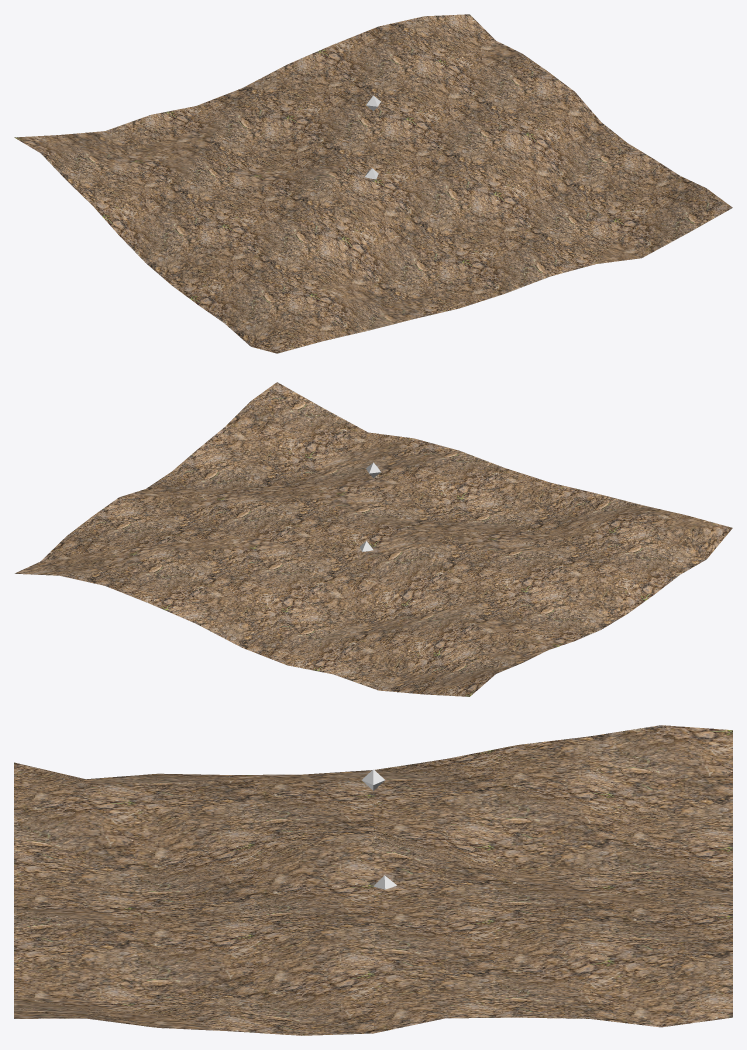
The model's file is field.fbx.
3 renders of one model, top to bottom at view 1: azimuth 30°, elevation 25°; view 2: azimuth 150°, elevation 25°; view 3: azimuth 270°, elevation 25°, orthographic. The views are drawn at different scales.
Visible parts, largest first — view 1: Plane001; view 2: Plane001; view 3: Plane001.
Part boxes in pixels (x1,y1,x2,y2): Plane001: [14, 14, 732, 353]; Plane001: [15, 382, 732, 696]; Plane001: [14, 725, 732, 1035].
Bounding box in the file's own units: 30 × 7.45 × 30.
